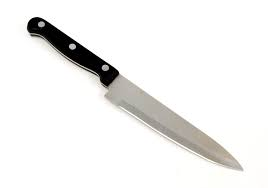knife: (26, 15, 245, 173)
